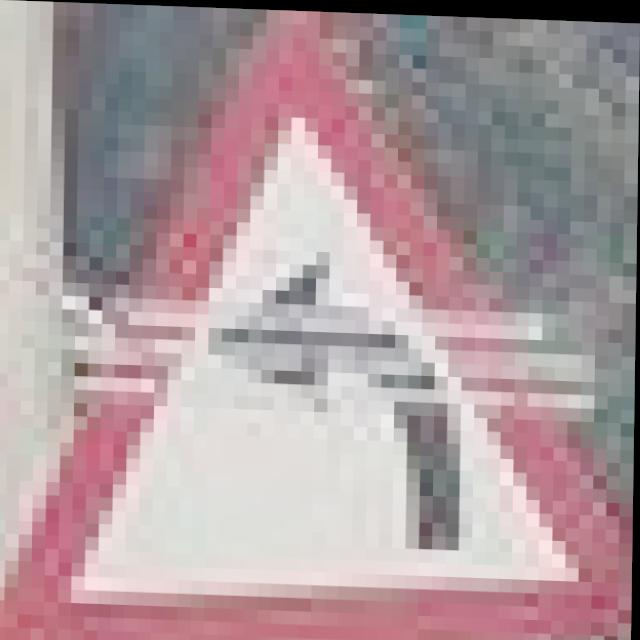LEFT_HAND_CURVE: (0, 0, 627, 640)
